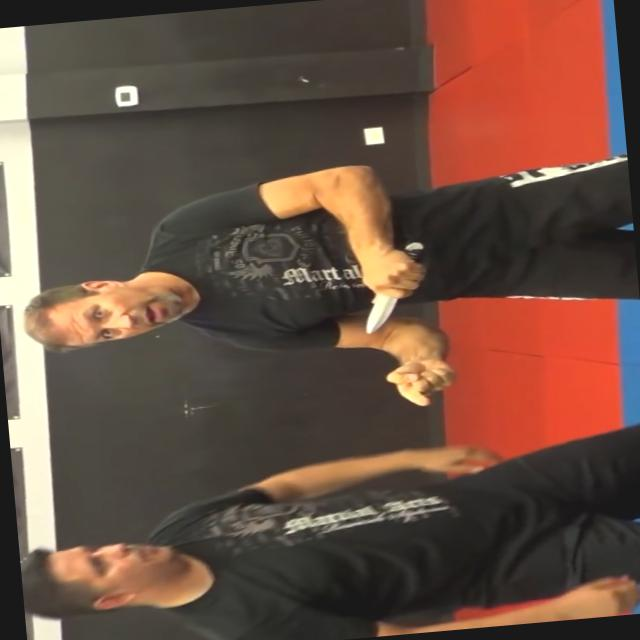knife: (345, 230, 440, 339)
